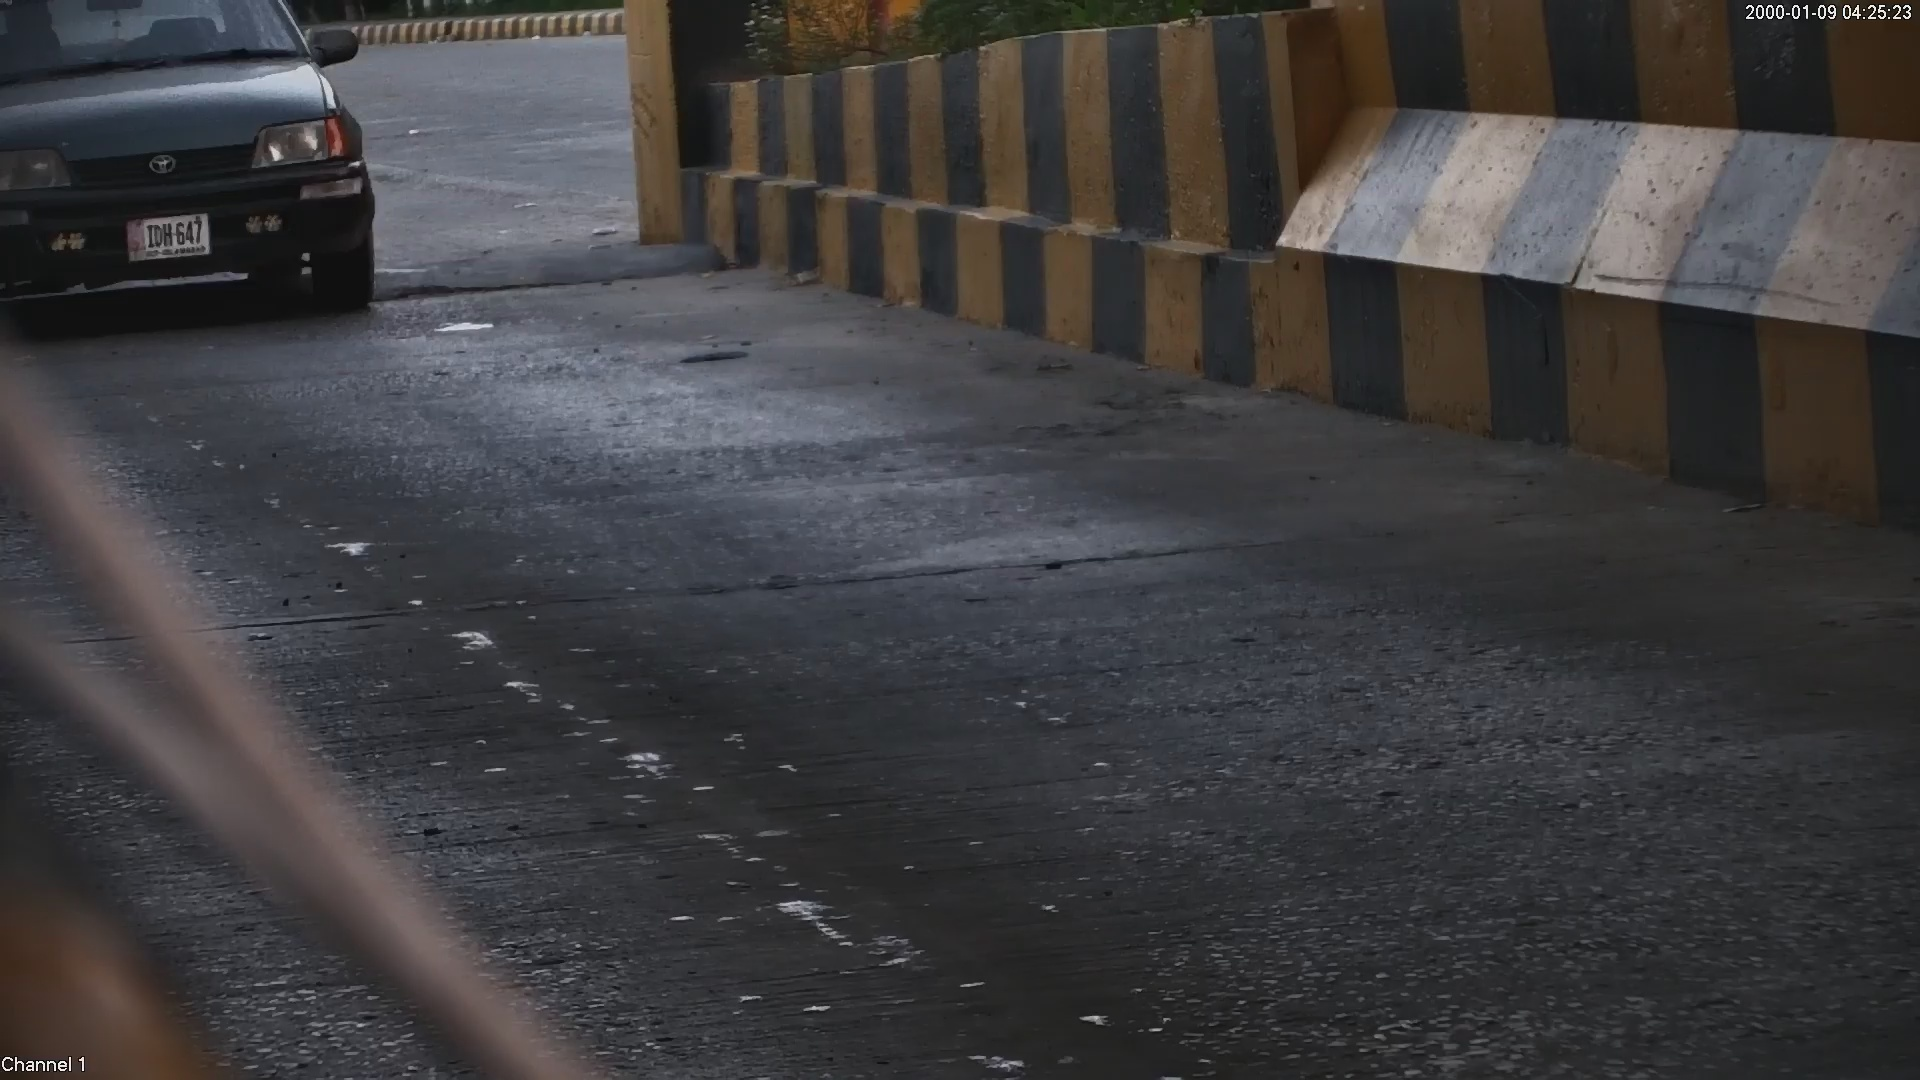Number_Plate: (115, 209, 219, 266)
